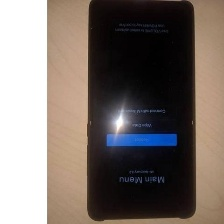phone: (85, 0, 198, 223)
